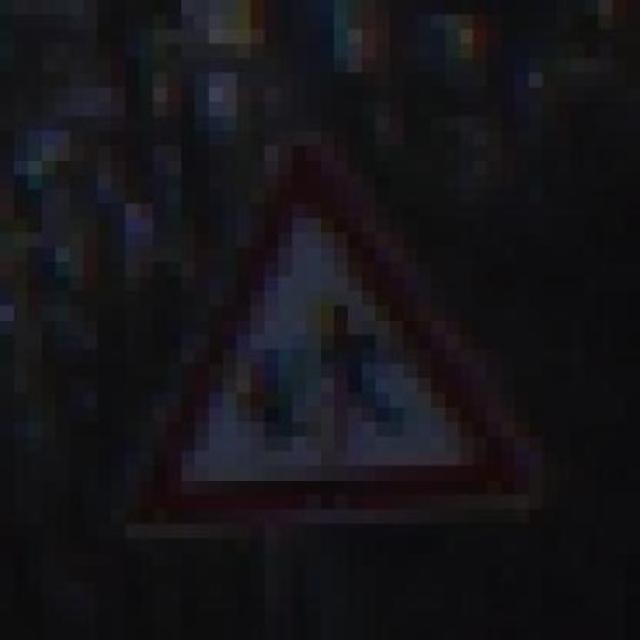Beware of children: (83, 116, 557, 538)
